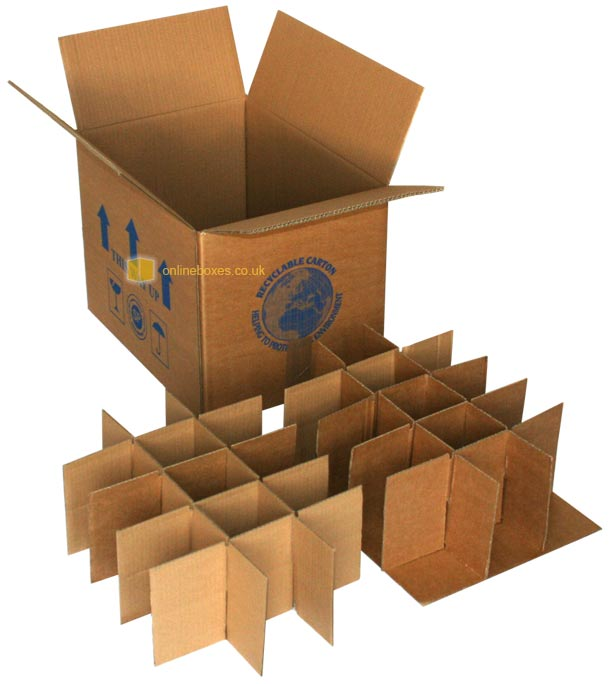Rec_Paper: (51, 344, 609, 660), (11, 6, 448, 387)
